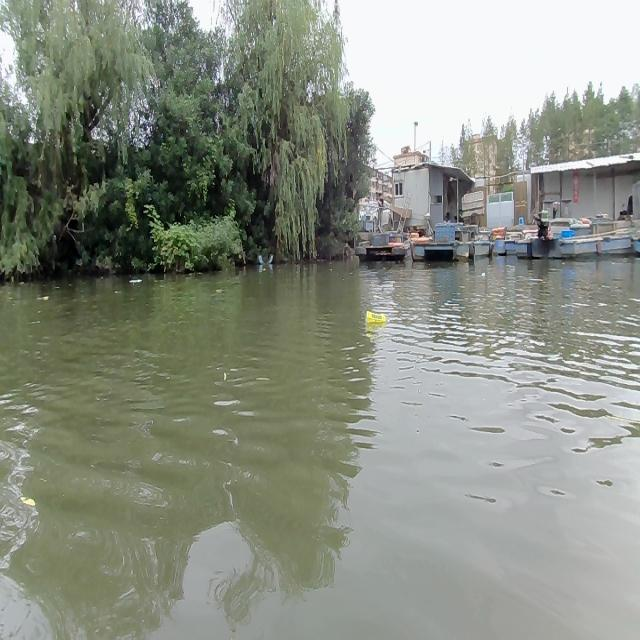bottle: (363, 308, 392, 326)
